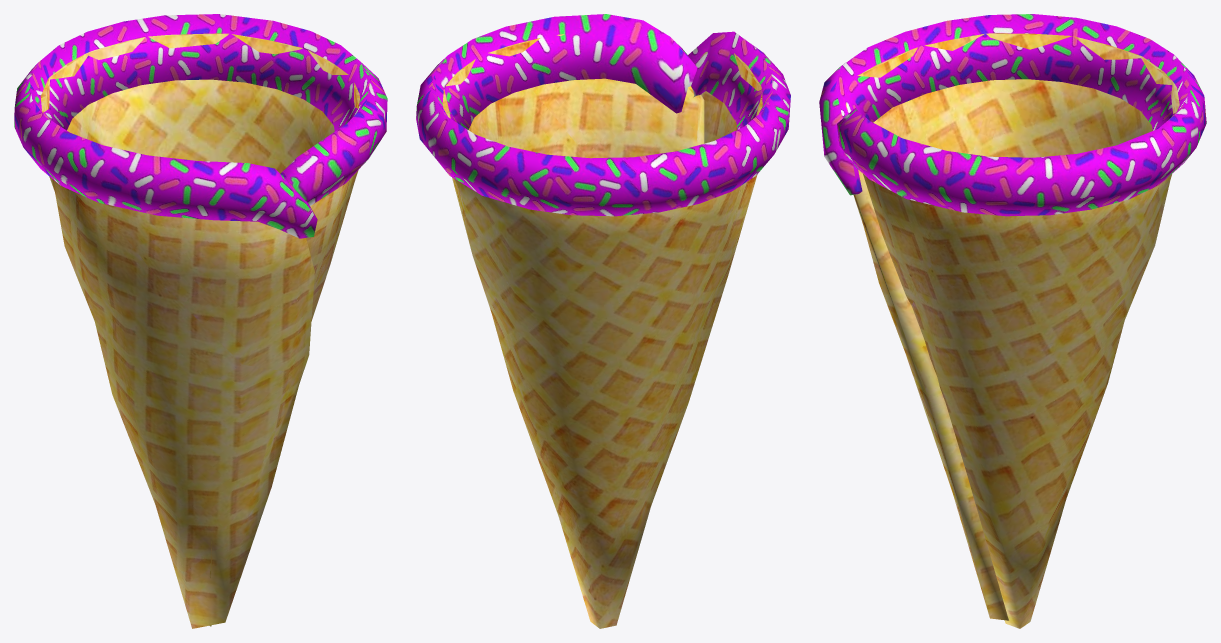
File: Waffle Cone.fbx
The picture shows the model from 3 angles, left to right: view 1: azimuth 30°, elevation 25°; view 2: azimuth 150°, elevation 25°; view 3: azimuth 270°, elevation 25°; orthographic projection.
Visible parts, largest first — view 1: Cone, Cone Rim; view 2: Cone, Cone Rim; view 3: Cone, Cone Rim.
Part boxes in pixels (box(x1,y1,x2,y2)): Cone: box(40, 33, 359, 628); Cone Rim: box(14, 14, 387, 238); Cone: box(442, 34, 762, 628); Cone Rim: box(416, 14, 790, 216); Cone: box(845, 33, 1179, 628); Cone Rim: box(819, 14, 1206, 216).
Size of the model in its own units: 210 by 335 by 219.
